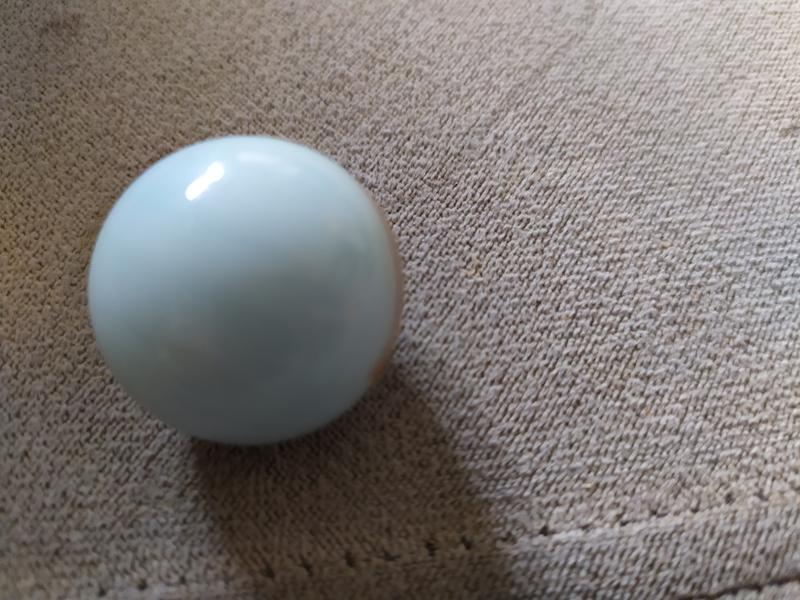Warning: (77, 130, 410, 453)
